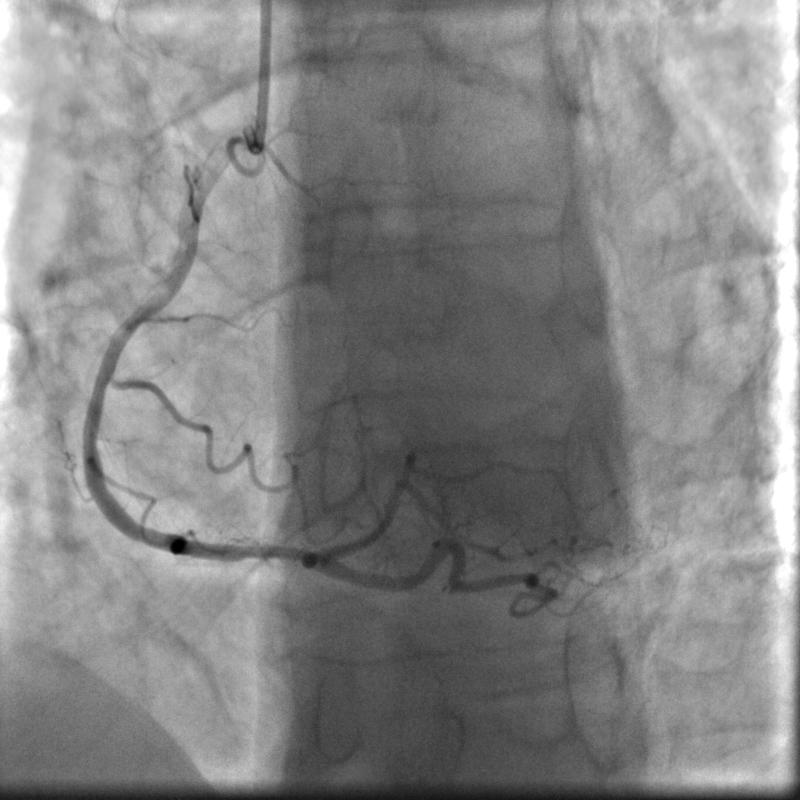Stenosis: (212, 530, 303, 579)
